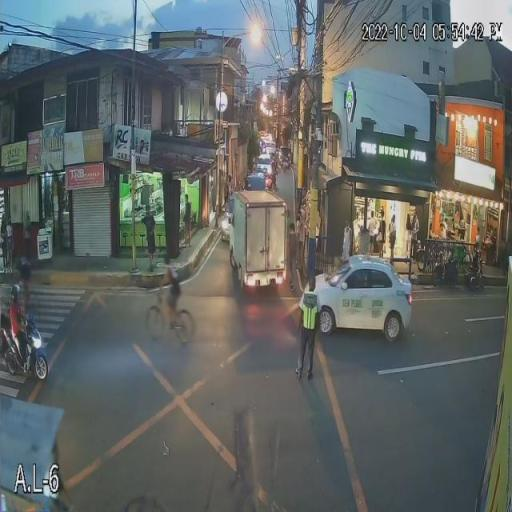helmet: (12, 282, 24, 294)
motorcycle: (0, 311, 49, 381)
rider: (8, 283, 34, 363), (162, 265, 184, 331)
